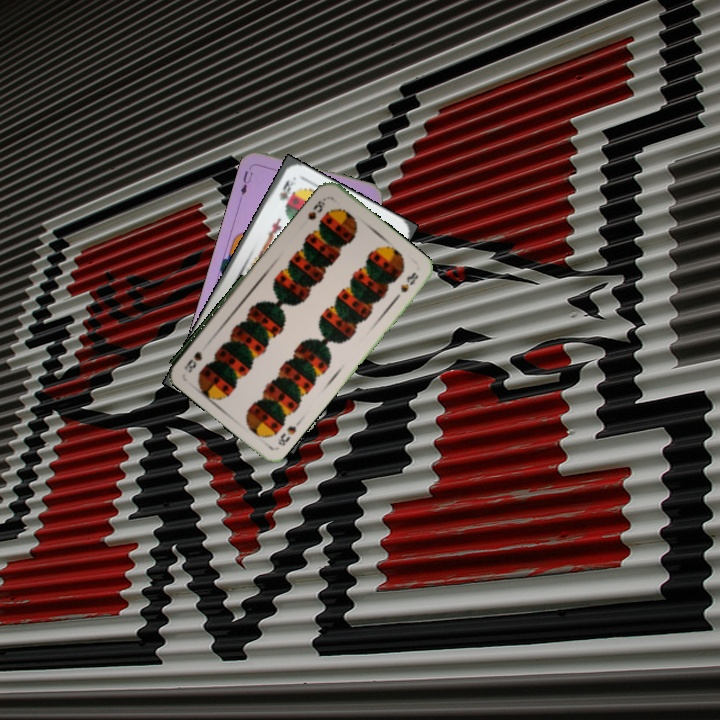EU: (236, 162, 255, 197)
S8: (274, 416, 304, 449), (304, 193, 329, 222)
SK: (275, 176, 298, 203)
